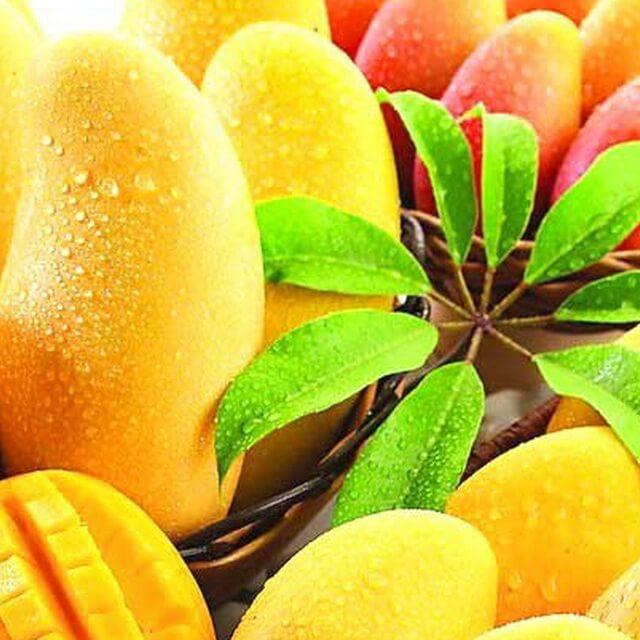mango: (0, 36, 252, 477), (229, 513, 499, 640), (444, 428, 640, 589), (548, 88, 640, 251)
